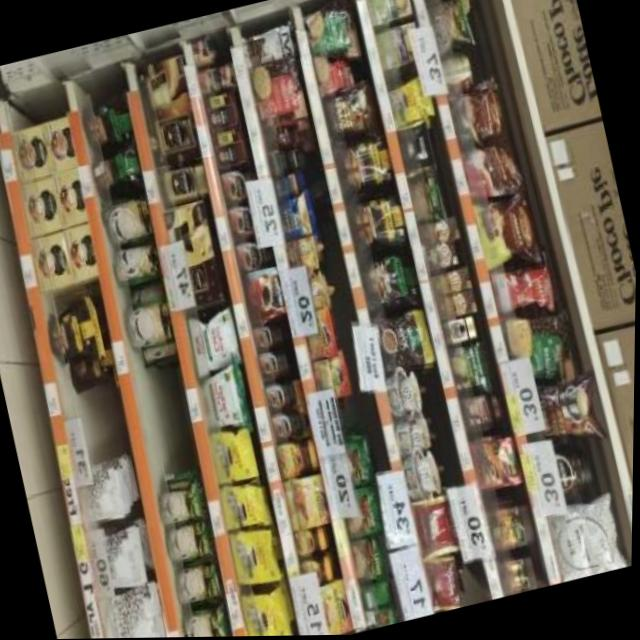Coffee: (280, 473, 331, 531), (239, 265, 289, 323), (155, 163, 208, 205), (301, 308, 340, 361), (311, 354, 352, 402), (225, 201, 268, 242), (274, 437, 319, 476), (231, 236, 276, 274), (219, 166, 261, 206), (292, 525, 328, 559), (439, 317, 477, 347), (263, 378, 297, 411), (301, 554, 335, 587), (270, 411, 304, 442), (251, 323, 284, 354), (257, 349, 290, 379), (265, 148, 288, 178), (283, 144, 307, 172)
